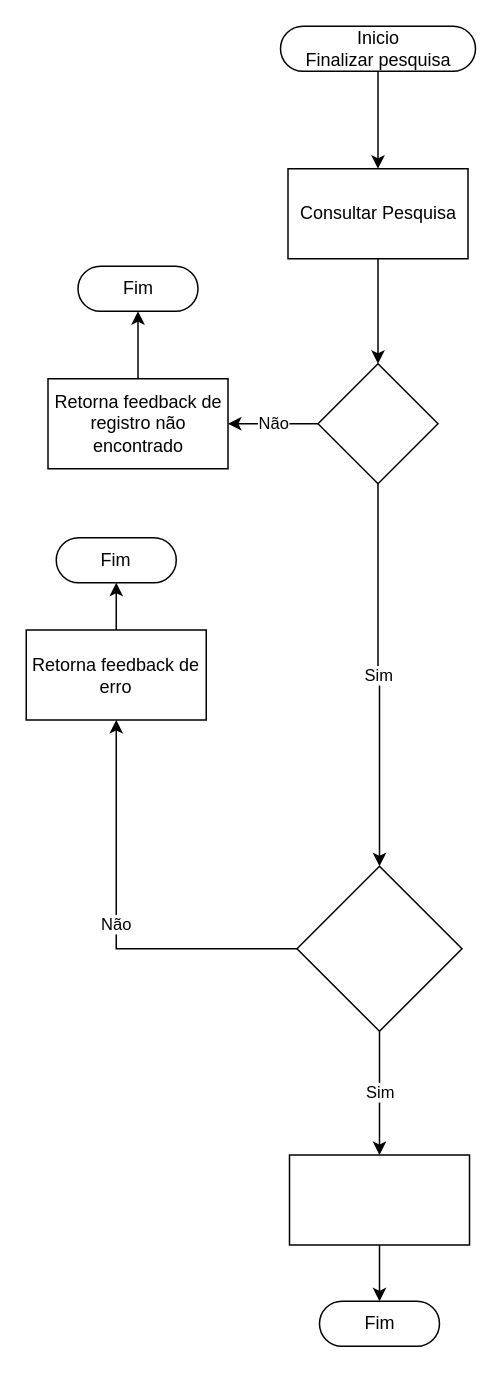
Image size: 503x1373. Some labels were removed from this diagram. The shapes that lost their labels are listed below. From the top down, each one's centre as x and y in pixels, then its label:
the point at 377,423: Pesquisa Existe?
the point at 379,948: Status da pesquisa é "Publicada"?
the point at 379,1199: Atualizar status da pesquisa para "Finalizada"
